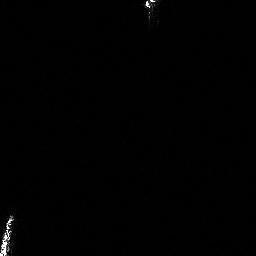ship: (1, 206, 15, 256), (138, 1, 157, 17)
